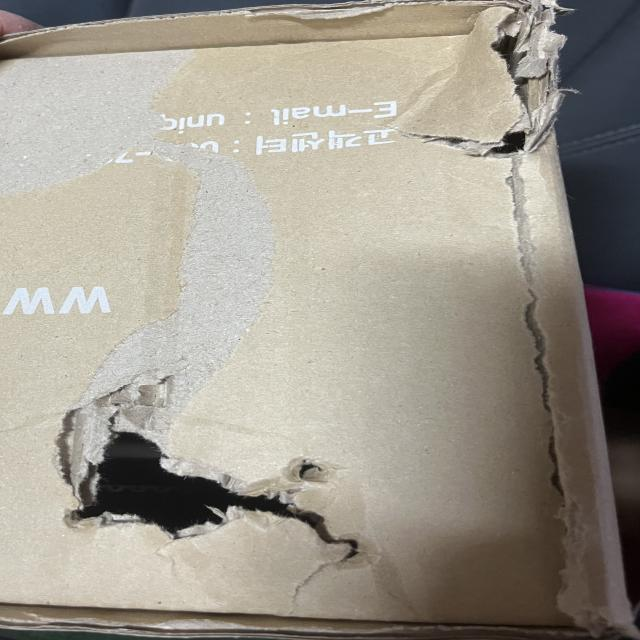hole: (67, 389, 361, 586), (408, 29, 550, 169)
